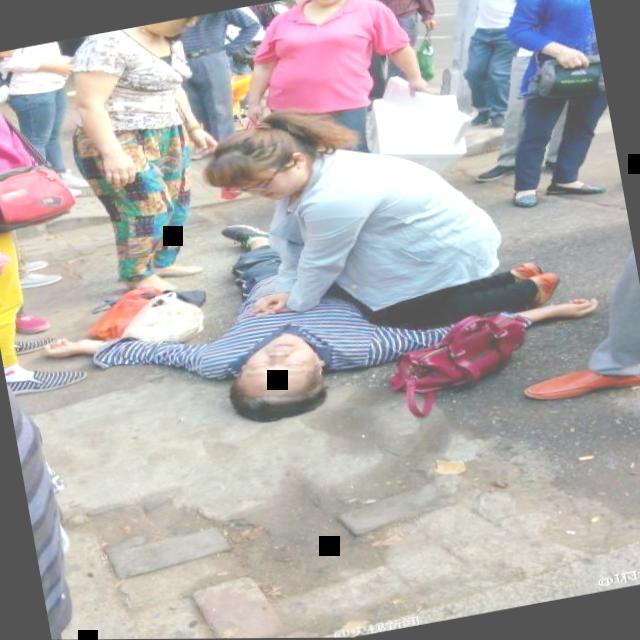Fall-Detected: (44, 173, 606, 448)
